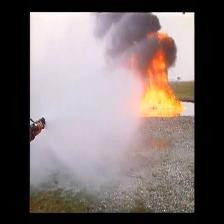fire: (141, 69, 179, 115)
smoke: (108, 16, 155, 62)
